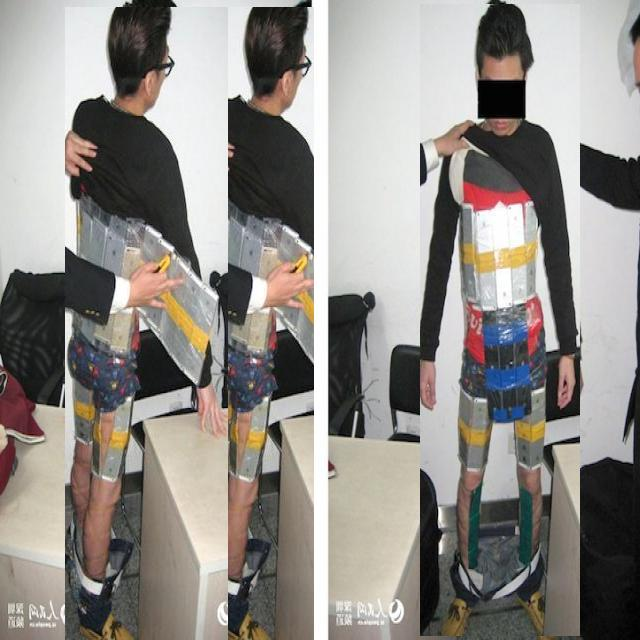direk: (116, 7, 314, 640), (65, 7, 228, 640), (420, 4, 580, 636)
